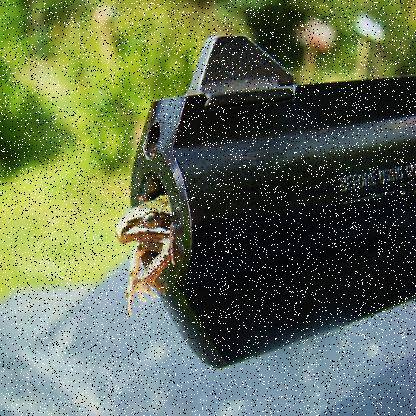pistol: (124, 26, 415, 370)
